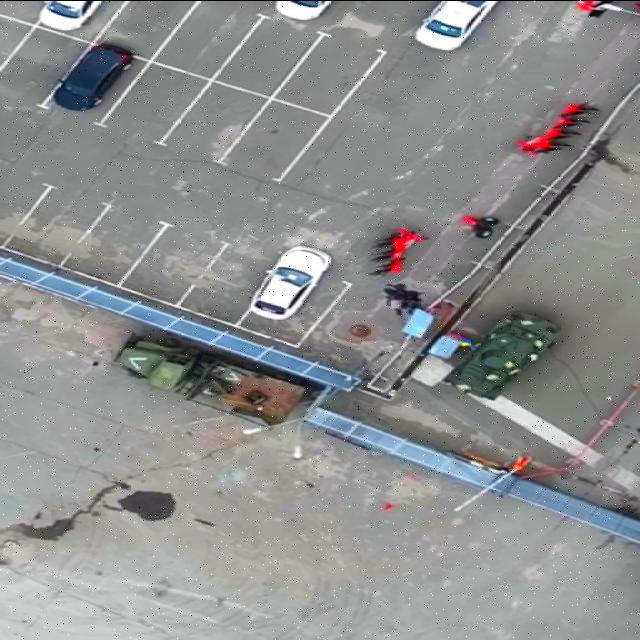APC-IFV: (447, 309, 569, 399)
CAR: (244, 242, 336, 322), (47, 42, 133, 114), (406, 0, 502, 52), (33, 0, 107, 31), (269, 0, 333, 20)
TRUCK: (109, 330, 318, 428)
